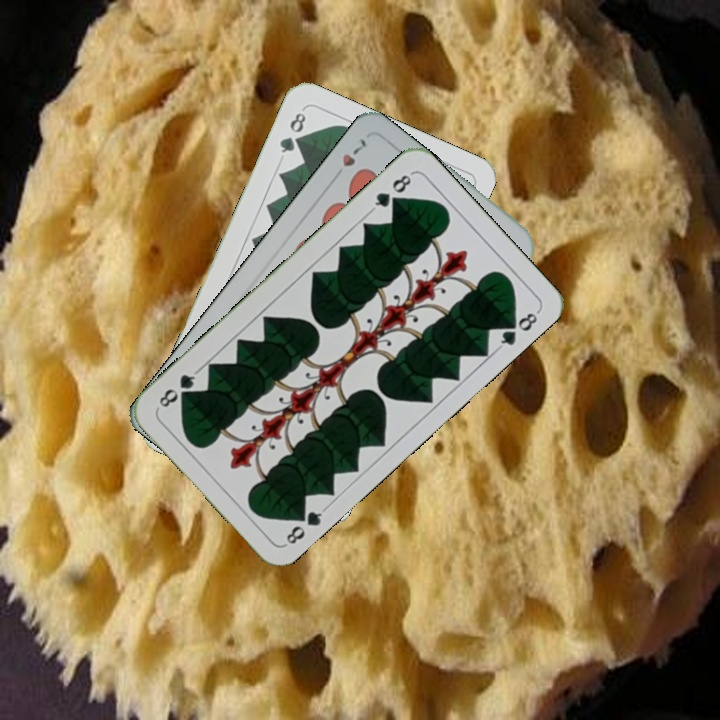G8: (368, 169, 415, 214), (281, 504, 329, 548), (275, 108, 309, 156)
H7: (328, 133, 369, 183)
